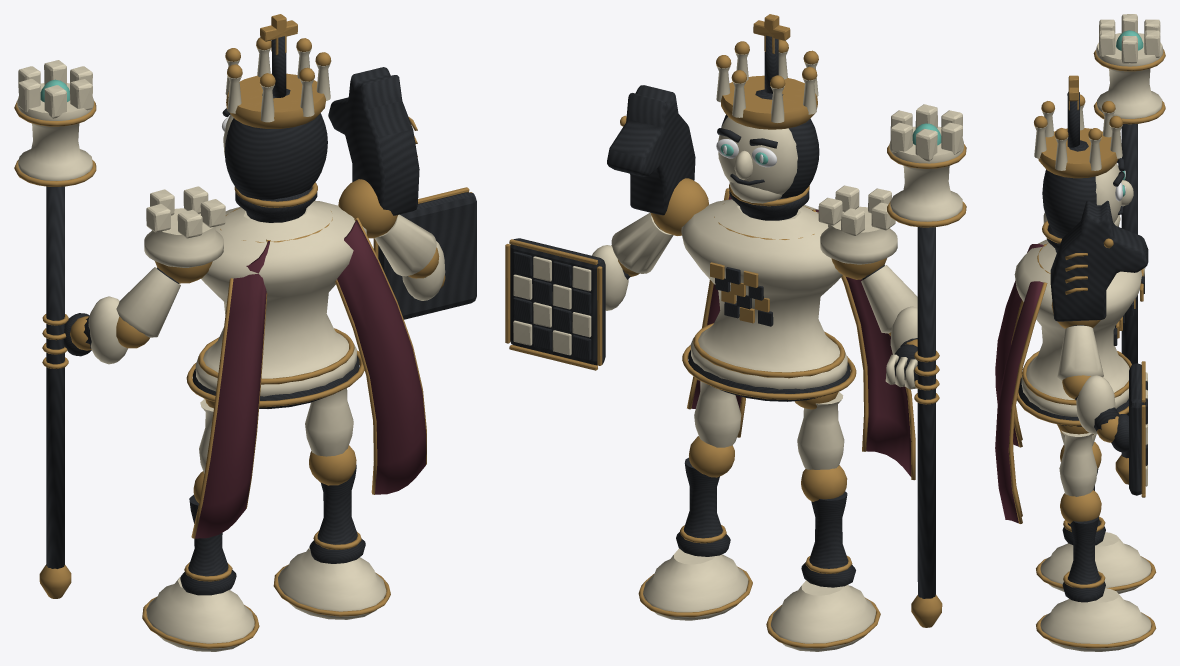
3 views of the same model, side by side, from view 1: azimuth 30°, elevation 25°; view 2: azimuth 150°, elevation 25°; view 3: azimuth 270°, elevation 25° (orthographic). The views are drawn at different scales.
Visible parts, largest first — view 1: porcelain_sovereign_body, velvet_tail_L, velvet_tail_R, shoulder_L__ebony_wood, shoulder_R__ivory_porcelain, head_look__ebony_wood, sceptre_ebony_shaft, rook_sceptre__ivory_porcelain, checker_guard__ebony_wood, chess_base_boot_R, chess_base_boot_L, head_look__aged_brass (+17 smaller); view 2: porcelain_sovereign_body, shoulder_L__ebony_wood, shoulder_R__ivory_porcelain, sceptre_ebony_shaft, checker_guard__ebony_wood, rook_sceptre__ivory_porcelain, head_look__ivory_porcelain, velvet_tail_R, chess_base_boot_R, chess_base_boot_L, head_look__aged_brass, body_sway__aged_brass (+20 smaller); view 3: porcelain_sovereign_body, shoulder_L__ebony_wood, rook_sceptre__ivory_porcelain, chess_base_boot_L, head_look__ebony_wood, velvet_tail_L, head_look__aged_brass, chess_base_boot_R, head_look__ivory_porcelain, sceptre_ebony_shaft, shin_turning_L, thigh_turning_L (+20 smaller).
Boxes of the visible parts, bbox=[...] form: porcelain_sovereign_body: bbox=[195, 200, 366, 396]; velvet_tail_L: bbox=[337, 219, 426, 494]; velvet_tail_R: bbox=[195, 241, 269, 538]; shoulder_L__ebony_wood: bbox=[328, 67, 419, 229]; shoulder_R__ivory_porcelain: bbox=[116, 186, 225, 337]; head_look__ebony_wood: bbox=[222, 36, 327, 199]; sceptre_ebony_shaft: bbox=[46, 186, 64, 568]; rook_sceptre__ivory_porcelain: bbox=[17, 60, 93, 180]; checker_guard__ebony_wood: bbox=[378, 192, 476, 319]; chess_base_boot_R: bbox=[146, 577, 254, 651]; chess_base_boot_L: bbox=[278, 547, 386, 619]; head_look__aged_brass: bbox=[225, 14, 331, 128]; porcelain_sovereign_body: bbox=[681, 199, 847, 389]; shoulder_L__ebony_wood: bbox=[607, 85, 695, 230]; shoulder_R__ivory_porcelain: bbox=[818, 185, 917, 333]; sceptre_ebony_shaft: bbox=[917, 227, 935, 598]; checker_guard__ebony_wood: bbox=[510, 238, 605, 365]; rook_sceptre__ivory_porcelain: bbox=[889, 104, 963, 221]; head_look__ivory_porcelain: bbox=[716, 50, 818, 194]; velvet_tail_R: bbox=[815, 209, 911, 476]; chess_base_boot_R: bbox=[771, 580, 875, 651]; chess_base_boot_L: bbox=[643, 548, 748, 620]; head_look__aged_brass: bbox=[716, 14, 818, 129]; body_sway__aged_brass: bbox=[682, 184, 856, 399]; porcelain_sovereign_body: bbox=[1014, 239, 1142, 416]; shoulder_L__ebony_wood: bbox=[1050, 200, 1148, 326]; rook_sceptre__ivory_porcelain: bbox=[1096, 14, 1163, 118]; chess_base_boot_L: bbox=[1040, 588, 1151, 651]; head_look__ebony_wood: bbox=[1042, 92, 1124, 238]; velvet_tail_L: bbox=[995, 281, 1043, 523]; head_look__aged_brass: bbox=[1034, 75, 1122, 178]; chess_base_boot_R: bbox=[1040, 532, 1151, 593]; head_look__ivory_porcelain: bbox=[1034, 104, 1133, 222]; sceptre_ebony_shaft: bbox=[1121, 124, 1137, 458]; shin_turning_L: bbox=[1062, 516, 1105, 602]; thigh_turning_L: bbox=[1059, 430, 1097, 496].
Bounding box in the file's own units: 2 × 2.51 × 0.7329.
6 materials, 6 textured.
